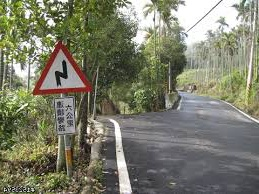Double_bend_right: (33, 42, 96, 95)
